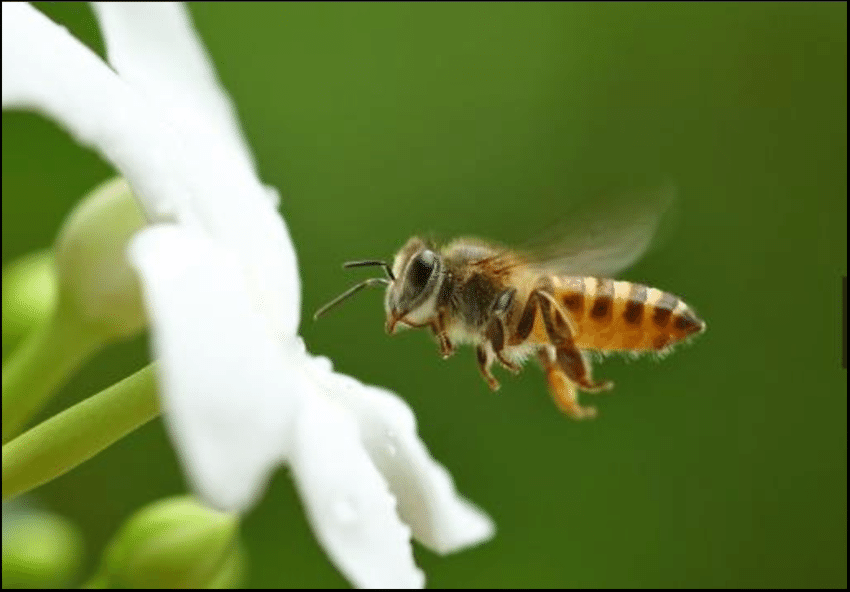bee: (300, 180, 724, 427)
